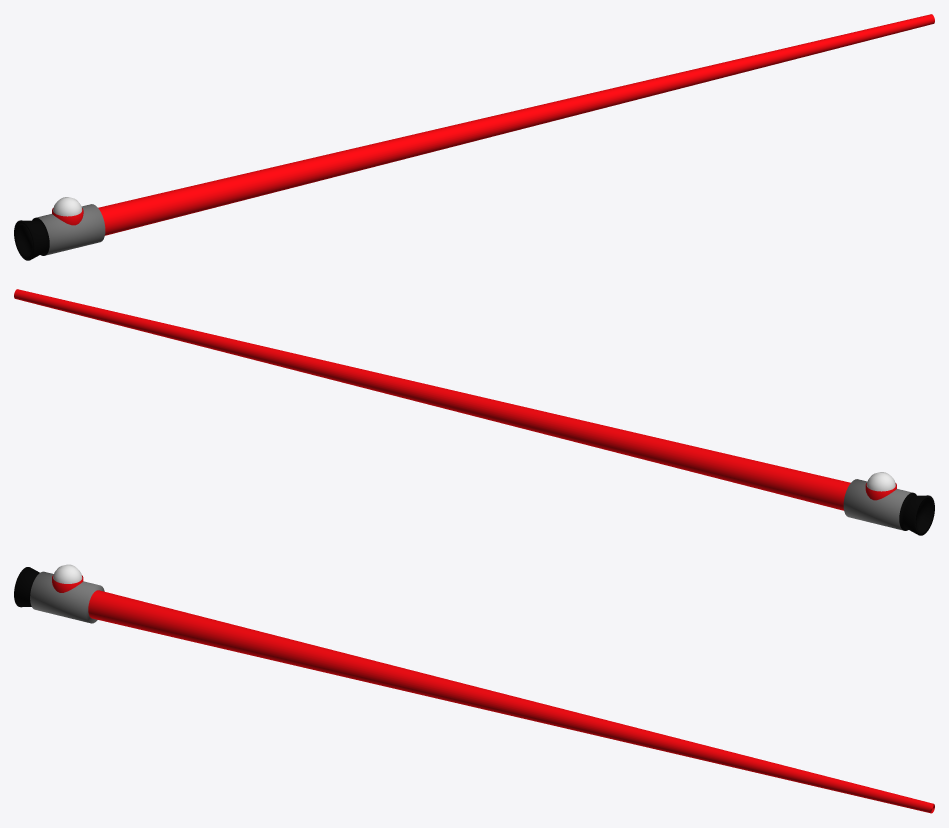
The model's file is Spaceship_laser_cannon.fbx.
The picture shows the model from 3 angles, top to bottom: view 1: azimuth 30°, elevation 25°; view 2: azimuth 150°, elevation 25°; view 3: azimuth 330°, elevation 25°; orthographic projection.
Visible parts, largest first — view 1: Cylinder.001, Cylinder; view 2: Cylinder.001, Cylinder; view 3: Cylinder.001, Cylinder.
Boxes of the visible parts, x1,y1,x2,y2 form: Cylinder.001: [98, 14, 934, 235]; Cylinder: [14, 204, 105, 260]; Cylinder.001: [14, 289, 850, 510]; Cylinder: [843, 479, 934, 535]; Cylinder.001: [88, 590, 934, 813]; Cylinder: [14, 567, 104, 623].
Bounding box in the file's own units: 5330 × 284 × 210.
